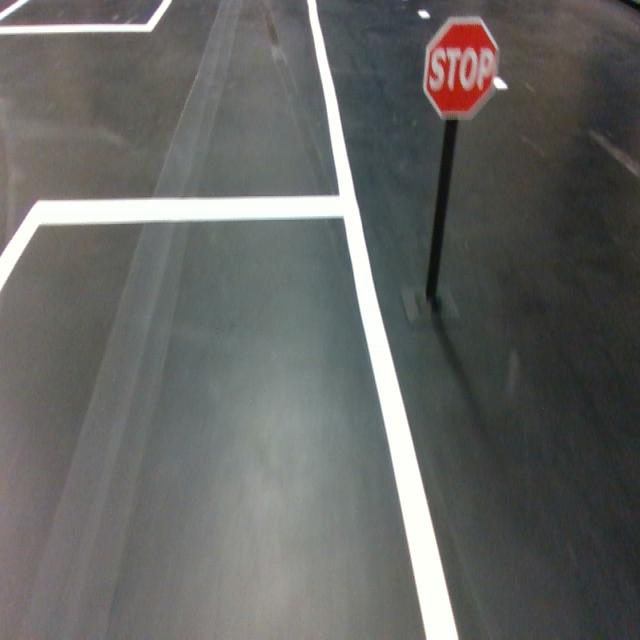stop-sign: (422, 15, 501, 120)
